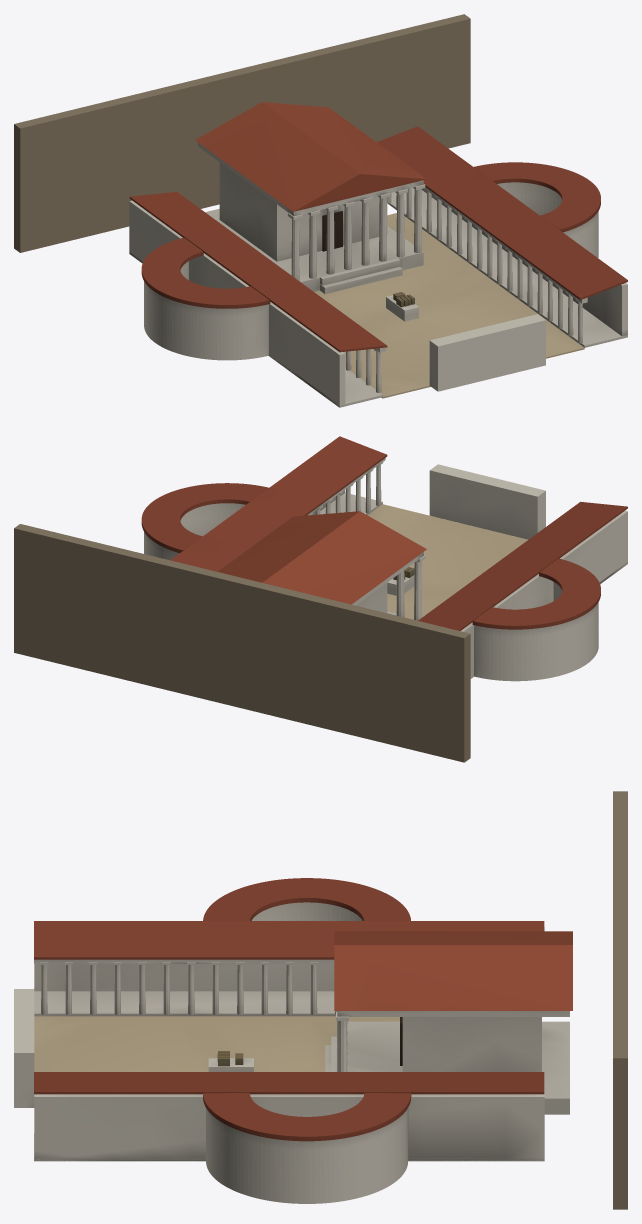
Rendered from forum-of-augustus.glb.
3 views of the same model, one above another, from view 1: azimuth 30°, elevation 25°; view 2: azimuth 150°, elevation 25°; view 3: azimuth 270°, elevation 25° (orthographic). The views are drawn at different scales.
Visible parts, largest first — view 1: p1_stage1, p2_stage2, p0_plaza; view 2: p1_stage1, p2_stage2, p0_plaza; view 3: p1_stage1, p2_stage2, p0_plaza.
Boxes of the visible parts, <box> form: p1_stage1: <box>14,14,627,407</box>; p2_stage2: <box>129,102,627,352</box>; p0_plaza: <box>314,213,584,398</box>; p1_stage1: <box>14,458,627,762</box>; p2_stage2: <box>141,436,627,630</box>; p0_plaza: <box>368,504,527,619</box>; p1_stage1: <box>14,791,627,1209</box>; p2_stage2: <box>34,878,572,1141</box>; p0_plaza: <box>34,1016,399,1071</box>.
Bounding box in the file's own units: 125 × 33.4 × 121.
